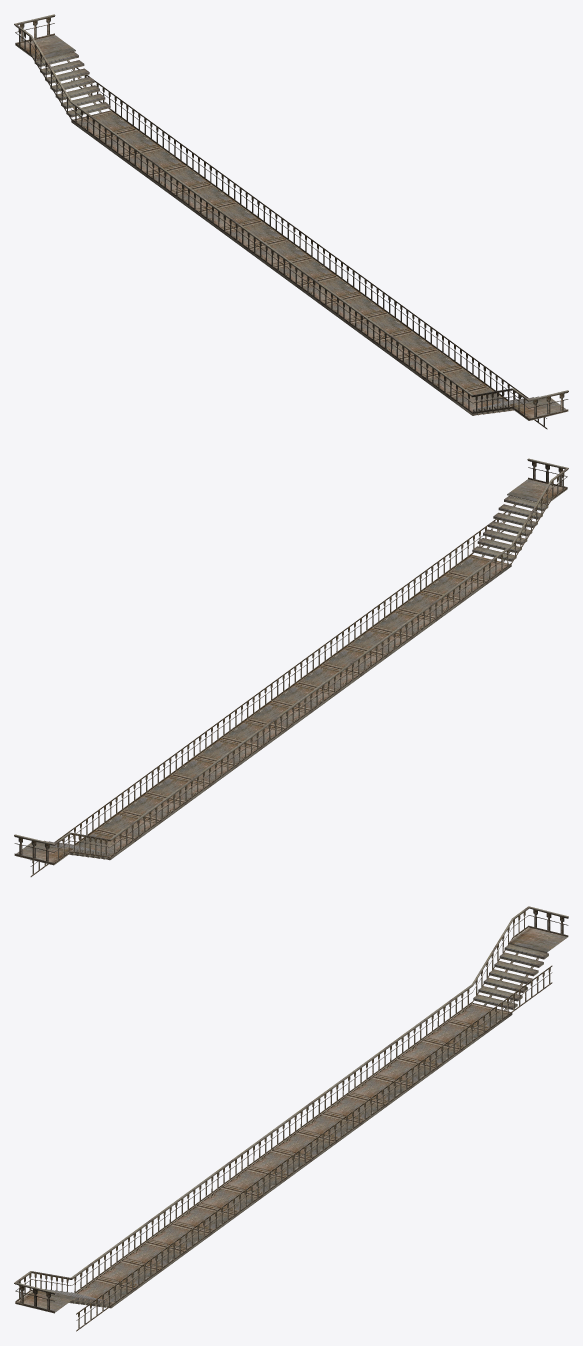
Rendered from MISSION8_LARGEBRIDGE_C.glb.
3 views of the same model, one above another, from view 1: azimuth 30°, elevation 25°; view 2: azimuth 150°, elevation 25°; view 3: azimuth 330°, elevation 25° (orthographic).
Parts seen in each view (by area): view 1: MISSION8_LARGEBRIDGE_C; view 2: MISSION8_LARGEBRIDGE_C; view 3: MISSION8_LARGEBRIDGE_C.
Part boxes in pixels (x1,y1,x2,y2): MISSION8_LARGEBRIDGE_C: [14, 14, 568, 429]; MISSION8_LARGEBRIDGE_C: [14, 458, 568, 876]; MISSION8_LARGEBRIDGE_C: [14, 906, 568, 1331].
Bounding box in the file's own units: 2.33 × 3.15 × 51.35.
Materials: 5 (5 with a texture image).
